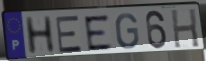6: (145, 9, 168, 50)
E: (82, 13, 115, 53), (54, 14, 84, 54)
G: (115, 13, 141, 51)
H: (23, 15, 57, 57), (170, 8, 201, 50)
